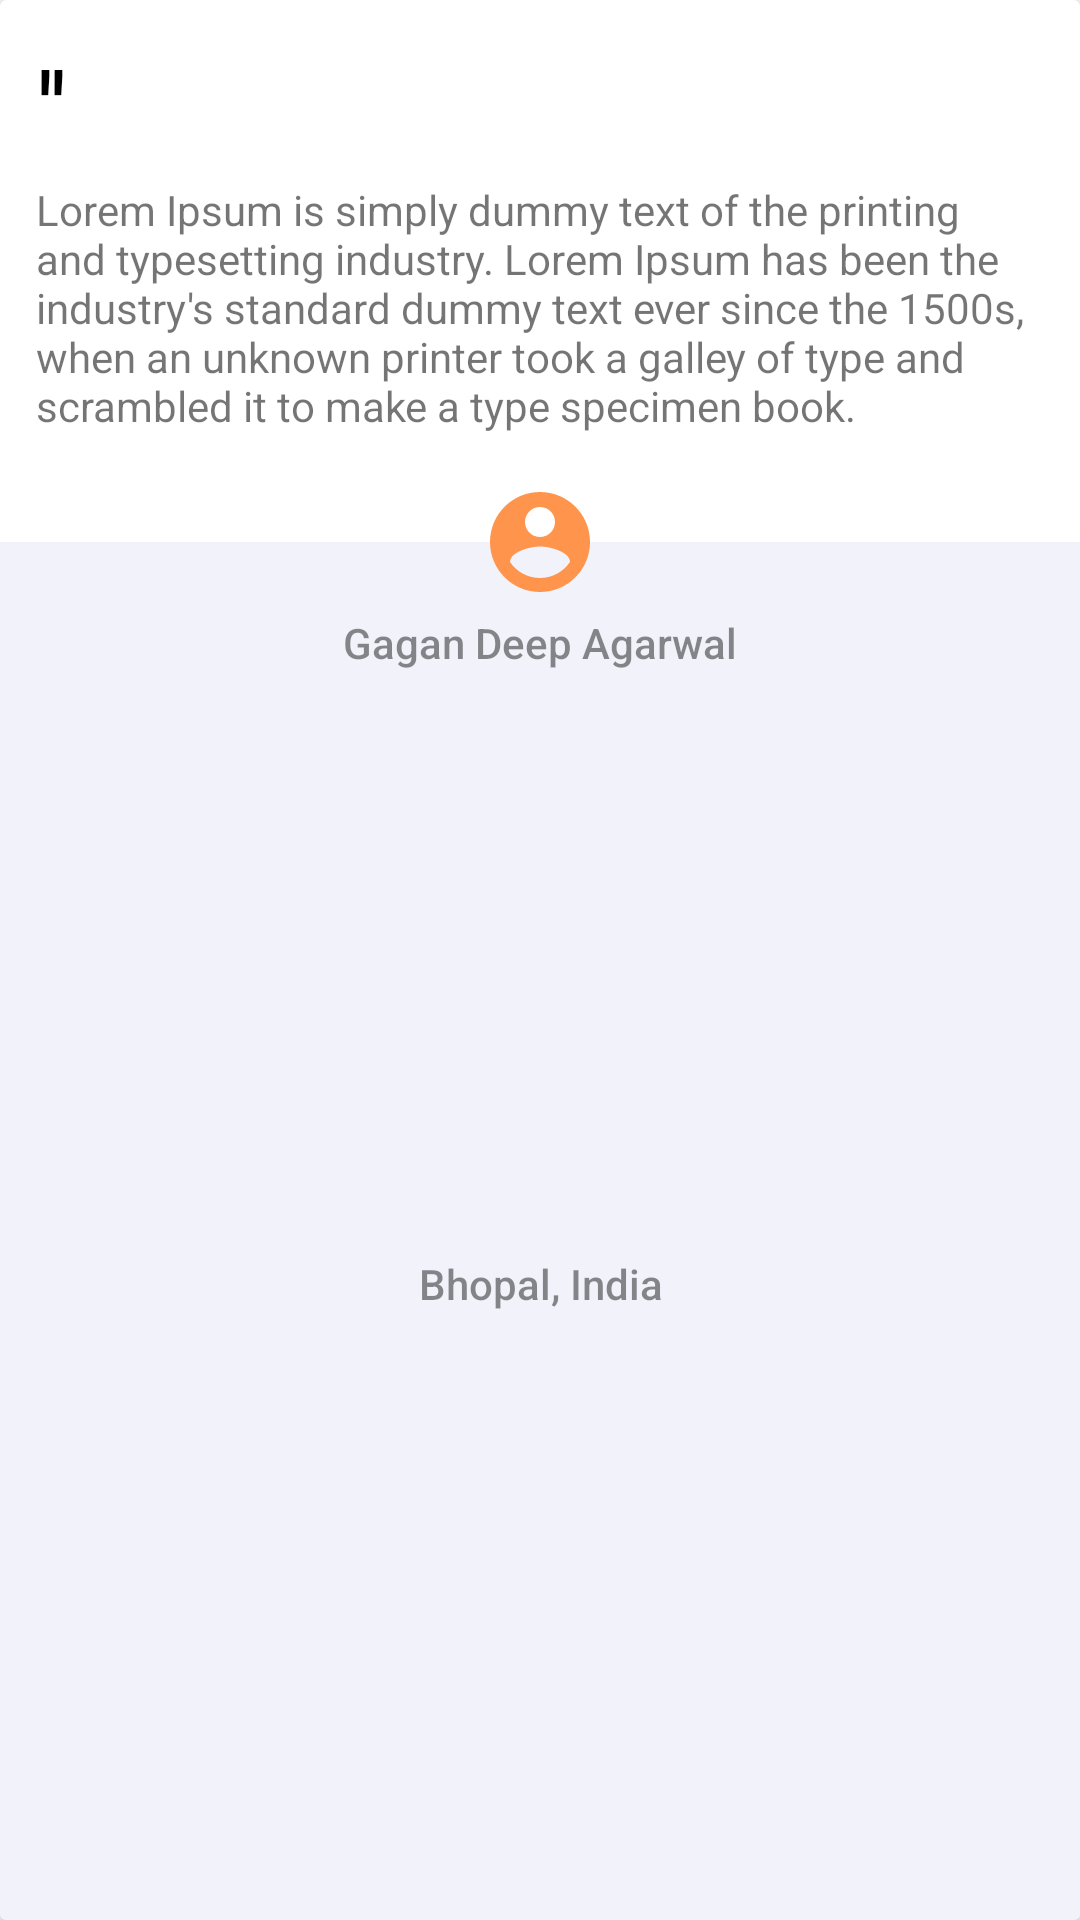

Named icons in this screenshot (1080w x 1920h) and their bounding boxes, bbox(x1, y1, x2, y2):
profile: bbox(490, 492, 590, 592)
